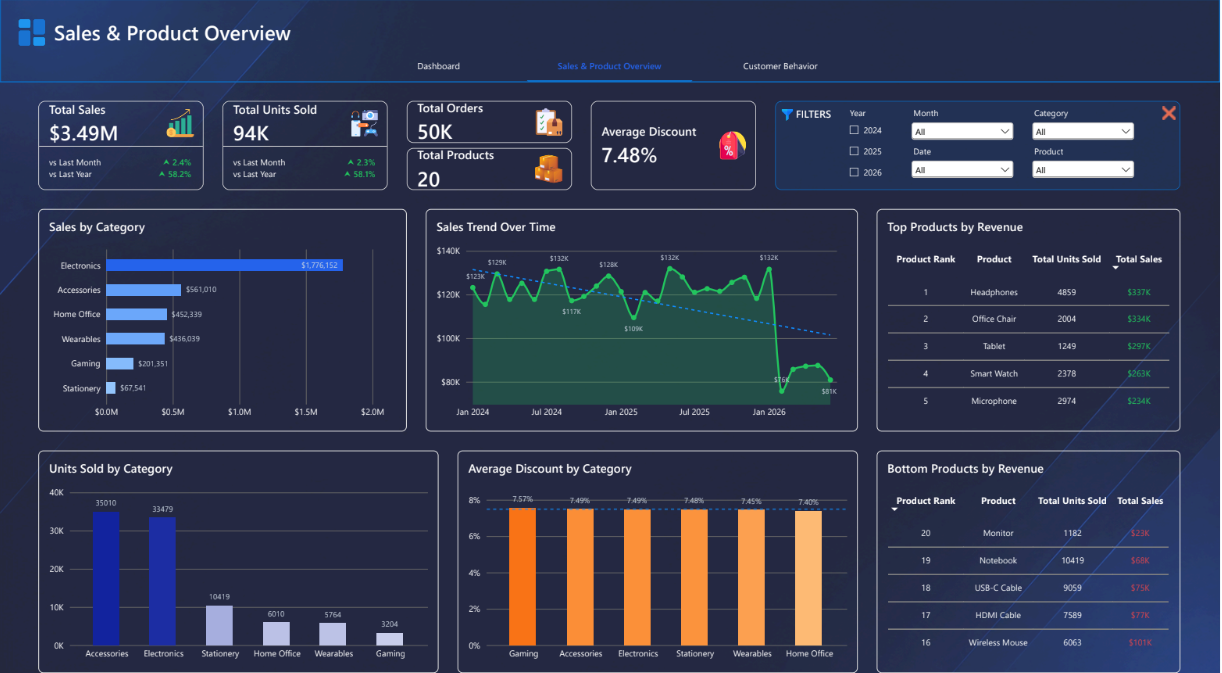

The dashboard page shown, as its layout file describes it:
{"tool":"powerbi","page":{"name":"Sales & Product Overview","canvas":[1920,1080],"ordinal":1},"visuals":[{"type":"shape","box":[0,0,1920,130],"z":0},{"type":"shape","box":[1220,160,638.3,140],"z":0,"group":"g3"},{"type":"textbox","box":[1252.8,169.4,73.4,36.2],"z":0,"group":"g1"},{"type":"cardVisual","fields":{"Data":["orders.Total Sales"]},"box":[60,160,260,140],"z":1000},{"type":"slicer","fields":{"Values":["Calendar.Year"]},"box":[1330,170,71.5,126.2],"z":1000,"group":"g3"},{"type":"image","box":[1230,173.7,18,18.1],"z":1000,"group":"g1"},{"type":"cardVisual","fields":{"Data":["orders.Total Units Sold"]},"box":[350,160,260,140],"z":2000},{"type":"group","id":"g1","title":"Group 2","box":[1230,169.4,95.9,35.9],"z":2000,"group":"g3"},{"type":"cardVisual","fields":{"Data":["orders.Total Orders","orders.Total Products"]},"box":[640,160,260,140],"z":3000},{"type":"slicer","fields":{"Values":["Calendar.MonthName"]},"box":[1430,170,170,55],"z":3000,"group":"g3"},{"type":"slicer","fields":{"Values":["Calendar.Year","Calendar.MonthName","Calendar.Date"]},"box":[1430,230,170,55],"z":4000,"group":"g3"},{"type":"lineChart","title":"Sales Trend Over Time","fields":{"Category":["Calendar.Year Month Sort"],"Y":["orders.Total Sales"]},"box":[670,330,680,350],"z":4000},{"type":"slicer","fields":{"Values":["products.ProductName"]},"box":[1620,230,170,55],"z":5000,"group":"g3"},{"type":"barChart","title":"Sales by Category","fields":{"Category":["products.Category"],"Y":["orders.Total Sales"]},"box":[60,330,580,350],"z":5000},{"type":"pageNavigator","box":[560,80,800,50],"z":6000},{"type":"slicer","fields":{"Values":["products.Category"]},"box":[1619.6,169.6,170,55],"z":6000,"group":"g3"},{"type":"group","id":"g2","title":"Group 1","box":[30,30,605,43],"z":7000},{"type":"group","id":"g3","title":"Group 3","box":[1220,150,640,150],"z":8000},{"type":"columnChart","title":"Units Sold by Category","fields":{"Category":["products.Category"],"Y":["orders.Total Units Sold"]},"box":[60,710,630,350],"z":9000},{"type":"tableEx","title":"Top Products by Revenue","fields":{"Values":["orders.Product Rank","products.ProductName","orders.Total Units Sold","orders.Total Sales"]},"box":[1380,330,478,350],"z":10000},{"type":"textbox","box":[85,30,550,43],"z":11000,"group":"g2"},{"type":"tableEx","title":"Bottom Products by Revenue","fields":{"Values":["orders.Product Rank","products.ProductName","orders.Total Units Sold","orders.Total Sales"]},"box":[1380,710,478,350],"z":11000},{"type":"cardVisual","fields":{"Data":["orders.Average Discount"]},"box":[930,160,260,140],"z":12000},{"type":"image","box":[30,32,40,40],"z":13000,"group":"g2"},{"type":"columnChart","title":"Average Discount by Category","fields":{"Category":["products.Category"],"Y":["orders.Average Discount"]},"box":[720,710,630,350],"z":13000},{"type":"actionButton","box":[1820,150,40,59.1],"z":14000,"group":"g3"}]}

Visuals, with their boxes in screenshot pixels (x1, y1, x2, y2), scaled from the page's 1920x1080 canvas onto the 1222x673 screenshot:
shape: (0,0,1221,81)
shape: (776,100,1183,187)
textbox: (797,106,844,128)
cardVisual - orders.Total Sales: (38,100,204,187)
slicer - Calendar.Year: (846,106,892,185)
image: (783,108,794,120)
cardVisual - orders.Total Units Sold: (223,100,388,187)
"Group 2" group: (783,106,844,128)
cardVisual - orders.Total Orders x orders.Total Products: (407,100,573,187)
slicer - Calendar.MonthName: (910,106,1018,140)
slicer - Calendar.Year x Calendar.MonthName: (910,143,1018,178)
"Sales Trend Over Time" lineChart: (426,206,859,424)
slicer - products.ProductName: (1031,143,1139,178)
"Sales by Category" barChart: (38,206,407,424)
pageNavigator: (356,50,866,81)
slicer - products.Category: (1031,106,1139,140)
"Group 1" group: (19,19,404,45)
"Group 3" group: (776,93,1184,187)
"Units Sold by Category" columnChart: (38,442,439,661)
"Top Products by Revenue" tableEx: (878,206,1183,424)
textbox: (54,19,404,45)
"Bottom Products by Revenue" tableEx: (878,442,1183,661)
cardVisual - orders.Average Discount: (592,100,757,187)
image: (19,20,45,45)
"Average Discount by Category" columnChart: (458,442,859,661)
actionButton: (1158,93,1184,130)
